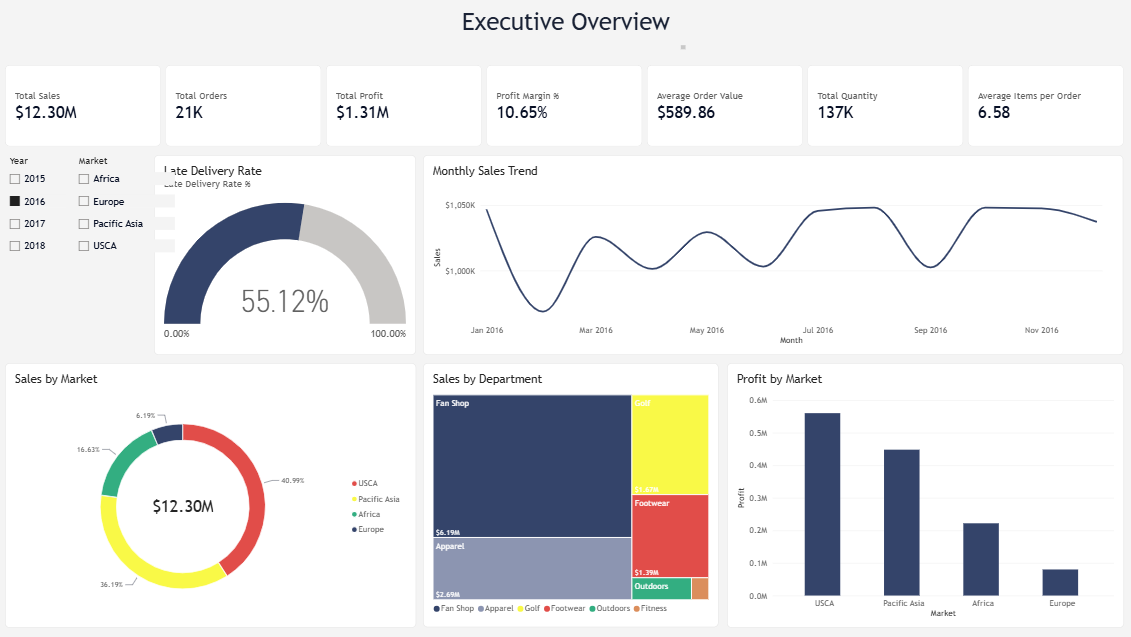

What the dashboard file says about the page in this screenshot:
{"tool":"powerbi","page":{"name":"Executive Overview","canvas":[1920,1080],"ordinal":0},"visuals":[{"type":"cardVisual","fields":{"Data":["order_items.Total Sales","orders.Total Orders","order_items.Total Profit","order_items.Profit Margin %","order_items.Average Order Value","order_items.Total Quantity","order_items.Average Items per Order"]},"box":[9.9,112.5,1896.3,138.1],"z":0},{"type":"lineChart","title":"Monthly Sales Trend","fields":{"Category":["orders.order date (DateOrders).Variation.Date Hierarchy.Year","orders.order date (DateOrders).Variation.Date Hierarchy.Month"],"Y":["order_items.Total Sales"]},"box":[719,265.1,1186.9,339.4],"z":1000},{"type":"donutChart","title":"Sales by Market","fields":{"Category":["orders.Market"],"Y":["order_items.Total Sales"]},"box":[10.2,616.9,696.6,449.2],"z":2000},{"type":"treemap","title":"Sales by Department","fields":{"Group":["products.Department Name"],"Values":["order_items.Total Sales"]},"box":[718.3,617.6,501.2,447.9],"z":3000},{"type":"clusteredColumnChart","title":"Profit by Market","fields":{"Category":["orders.Market"],"Y":["order_items.Total Profit"]},"box":[1233.9,616.9,672.9,449.2],"z":4000},{"type":"gauge","title":"Late Delivery Rate","fields":{"Y":["customers.Late Delivery Rate %"]},"box":[262.7,264.4,444.1,339],"z":5000},{"type":"slicer","fields":{"Values":["orders.order date (DateOrders).Variation.Date Hierarchy.Year"]},"box":[10,265.1,104.4,186.8],"z":6000},{"type":"slicer","fields":{"Values":["orders.Market"]},"box":[126.5,265.1,170.7,220.9],"z":7000},{"type":"textbox","title":"Executive Overview","box":[757.2,16.1,405.7,70.3],"z":8000}]}

Visuals, with their boxes in screenshot pixels (x1, y1, x2, y2), scaled from the page's 1920x1080 canvas onto the 1131x637 screenshot:
cardVisual - order_items.Total Sales x orders.Total Orders: region(6, 66, 1123, 148)
"Monthly Sales Trend" lineChart: region(424, 156, 1123, 357)
"Sales by Market" donutChart: region(6, 364, 416, 629)
"Sales by Department" treemap: region(423, 364, 718, 628)
"Profit by Market" clusteredColumnChart: region(727, 364, 1123, 629)
"Late Delivery Rate" gauge: region(155, 156, 416, 356)
slicer - orders.order date (DateOrders).Variation.Date Hierarchy.Year: region(6, 156, 67, 267)
slicer - orders.Market: region(75, 156, 175, 287)
"Executive Overview" textbox: region(446, 9, 685, 51)
